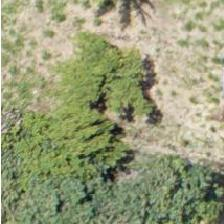coconut_tree: (177, 64, 223, 154)
